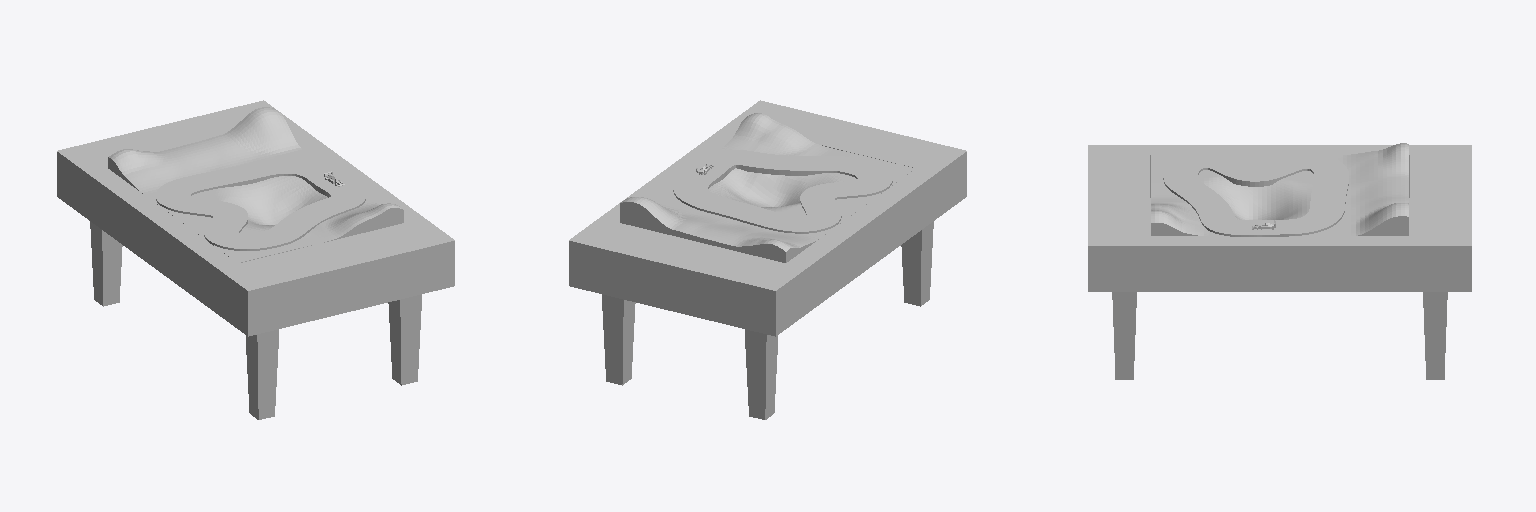
File: NewestTisch25.obj
3 renders of one model, left to right at view 1: azimuth 30°, elevation 25°; view 2: azimuth 150°, elevation 25°; view 3: azimuth 270°, elevation 25°, orthographic.
Parts seen in each view (by area): view 1: Tischplatte_wood_table_001, Landschaft_aerial_grass_rock, off, Bein1_wood_table_001, Bein4_wood_table_001.003, Bein3_wood_table_001.002; view 2: Tischplatte_wood_table_001, Landschaft_aerial_grass_rock, off, Bein2_wood_table_001.001, Bein3_wood_table_001.002, Bein4_wood_table_001.003; view 3: Tischplatte_wood_table_001, Landschaft_aerial_grass_rock, off, Bein1_wood_table_001, Bein2_wood_table_001.001.
Boxes of the visible parts, <box> form: Tischplatte_wood_table_001: <box>57,100,454,336</box>; Landschaft_aerial_grass_rock: <box>108,107,403,262</box>; off: <box>156,159,365,250</box>; Bein1_wood_table_001: <box>388,294,421,385</box>; Bein4_wood_table_001.003: <box>246,329,278,419</box>; Bein3_wood_table_001.002: <box>90,221,122,306</box>; Tischplatte_wood_table_001: <box>569,100,966,336</box>; Landschaft_aerial_grass_rock: <box>620,113,915,262</box>; off: <box>673,150,892,233</box>; Bein2_wood_table_001.001: <box>602,294,635,385</box>; Bein3_wood_table_001.002: <box>745,329,777,419</box>; Bein4_wood_table_001.003: <box>901,221,933,306</box>; Tischplatte_wood_table_001: <box>1088,145,1471,291</box>; Landschaft_aerial_grass_rock: <box>1151,143,1408,235</box>; off: <box>1163,153,1348,236</box>; Bein1_wood_table_001: <box>1112,292,1136,379</box>; Bein2_wood_table_001.001: <box>1423,292,1447,379</box>.
Bounding box in the file's own units: 5 × 3.91 × 8.